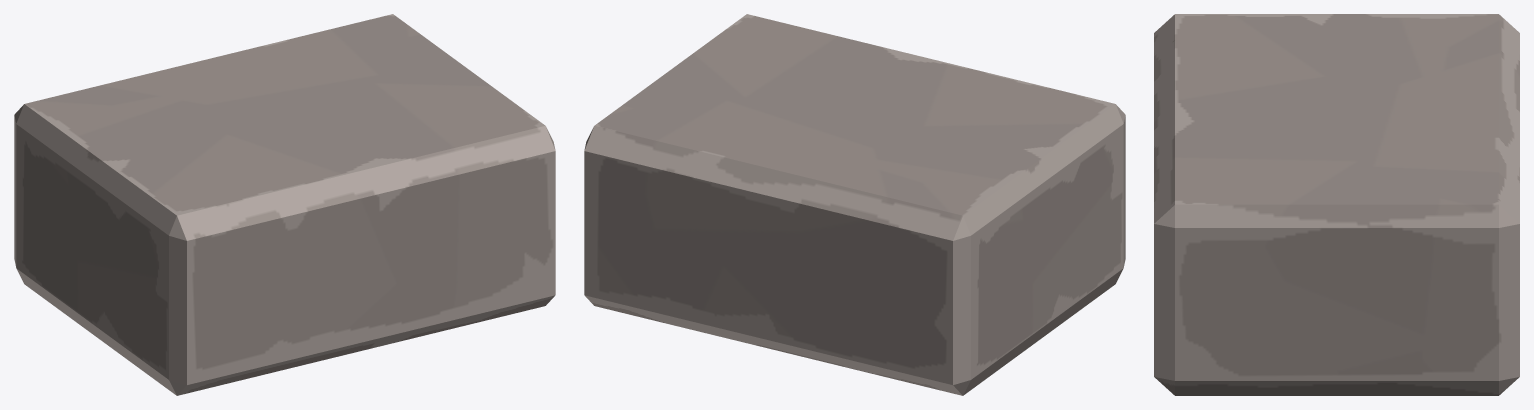
The model's file is RockSquare1.fbx.
3 views of the same model, side by side, from view 1: azimuth 30°, elevation 25°; view 2: azimuth 150°, elevation 25°; view 3: azimuth 270°, elevation 25° (orthographic). The views are drawn at different scales.
Parts seen in each view (by area): view 1: RockSquare1; view 2: RockSquare1; view 3: RockSquare1.
Boxes of the visible parts, <box> form: RockSquare1: <box>14,14,555,395</box>; RockSquare1: <box>584,14,1125,395</box>; RockSquare1: <box>1154,14,1519,395</box>.
Size of the model in its own units: 223 by 100 by 173.
